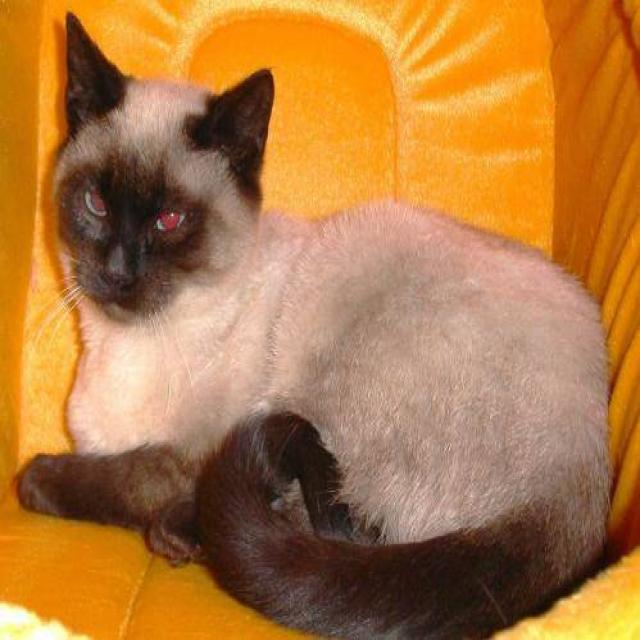cat: (14, 10, 613, 638)
